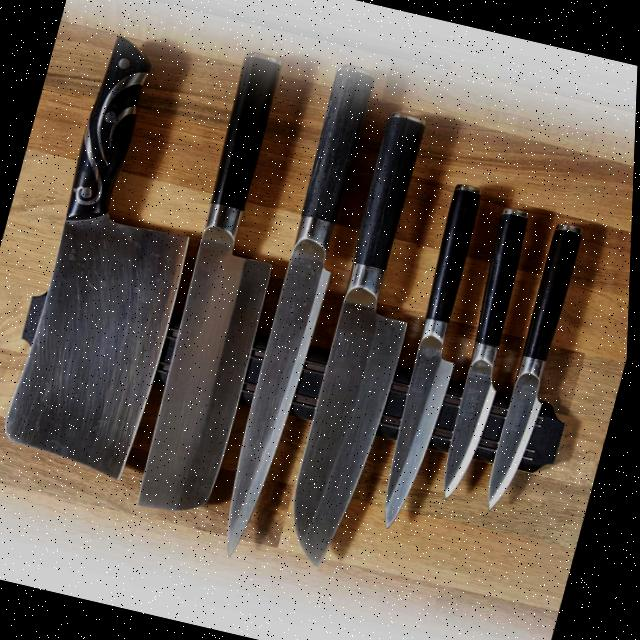knife: (0, 26, 242, 483), (129, 46, 333, 524), (267, 104, 464, 575), (208, 65, 390, 568), (363, 174, 504, 536), (478, 223, 590, 516), (437, 212, 538, 506)
